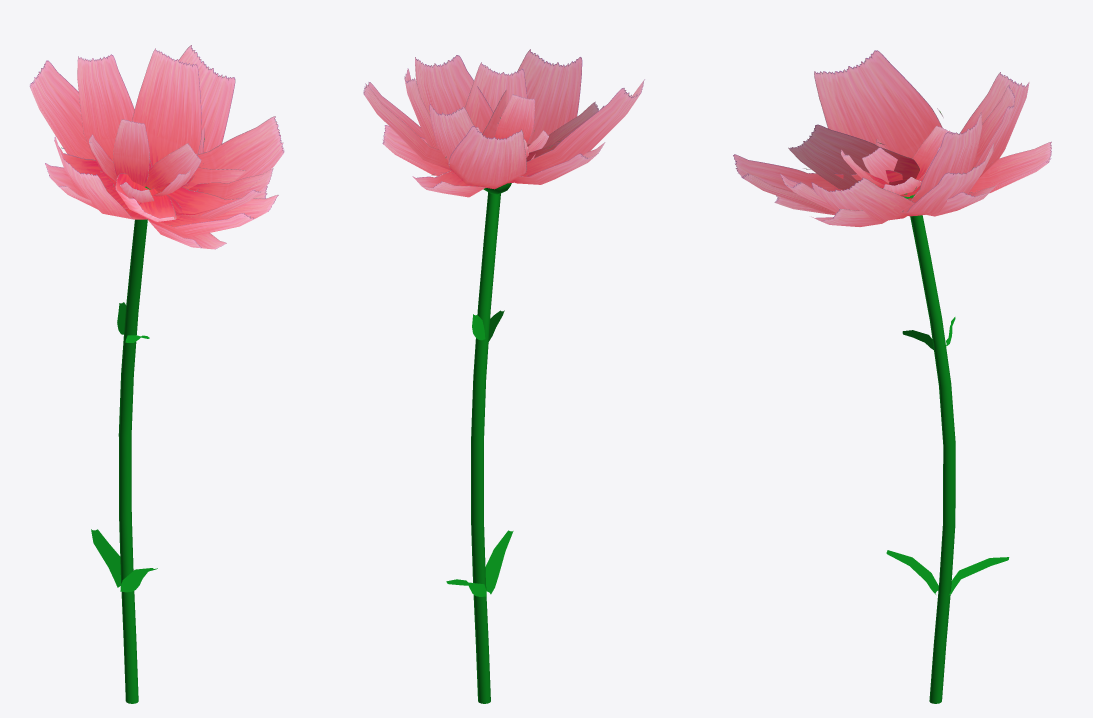
The model's file is momflowerStatic.fbx.
3 renders of one model, left to right at view 1: azimuth 30°, elevation 25°; view 2: azimuth 150°, elevation 25°; view 3: azimuth 270°, elevation 25°, orthographic. The views are drawn at different scales.
Visible parts, largest first — view 1: pCylinder1, polySurface55, polySurface57, polySurface48, polySurface51, polySurface58, polySurface49, polySurface60, polySurface70, polySurface54, polySurface72, polySurface53 (+5 smaller); view 2: pCylinder1, polySurface58, polySurface48, polySurface51, polySurface60, polySurface49, polySurface54, polySurface57, polySurface71, polySurface52, polySurface56, polySurface59 (+3 smaller); view 3: polySurface60, pCylinder1, polySurface53, polySurface58, polySurface51, polySurface55, polySurface56, polySurface48, polySurface49, polySurface57, polySurface73, polySurface74 (+2 smaller).
Part boxes in pixels (x1=…): pCylinder1: x1=118, y1=219, x2=147, y2=703; polySurface55: x1=132, y1=48, x2=204, y2=186; polySurface57: x1=77, y1=54, x2=151, y2=185; polySurface48: x1=29, y1=60, x2=116, y2=191; polySurface51: x1=176, y1=116, x2=284, y2=214; polySurface58: x1=140, y1=187, x2=278, y2=236; polySurface49: x1=143, y1=45, x2=235, y2=191; polySurface60: x1=54, y1=136, x2=146, y2=219; polySurface70: x1=113, y1=119, x2=149, y2=185; polySurface54: x1=176, y1=168, x2=273, y2=219; polySurface72: x1=147, y1=143, x2=201, y2=192; polySurface53: x1=113, y1=173, x2=176, y2=221; pCylinder1: x1=471, y1=192, x2=500, y2=703; polySurface58: x1=482, y1=49, x2=582, y2=144; polySurface48: x1=445, y1=126, x2=526, y2=189; polySurface51: x1=415, y1=55, x2=500, y2=133; polySurface60: x1=508, y1=79, x2=644, y2=183; polySurface49: x1=363, y1=82, x2=451, y2=170; polySurface54: x1=465, y1=62, x2=527, y2=131; polySurface57: x1=429, y1=104, x2=474, y2=161; polySurface71: x1=494, y1=94, x2=534, y2=143; polySurface52: x1=382, y1=125, x2=454, y2=175; polySurface56: x1=412, y1=170, x2=488, y2=197; polySurface59: x1=514, y1=142, x2=605, y2=184; polySurface60: x1=814, y1=50, x2=943, y2=158; pCylinder1: x1=910, y1=215, x2=955, y2=703; polySurface53: x1=788, y1=124, x2=919, y2=189; polySurface58: x1=733, y1=154, x2=911, y2=213; polySurface51: x1=811, y1=177, x2=914, y2=220; polySurface55: x1=908, y1=112, x2=982, y2=216; polySurface56: x1=970, y1=141, x2=1051, y2=193; polySurface48: x1=960, y1=72, x2=1029, y2=177; polySurface49: x1=902, y1=143, x2=993, y2=215; polySurface57: x1=972, y1=85, x2=1014, y2=168; polySurface73: x1=912, y1=125, x2=954, y2=179; polySurface74: x1=862, y1=147, x2=920, y2=196.
Bounding box in the file's own units: 0.8302 × 2.07 × 1.12.
2 materials, 1 textured.
